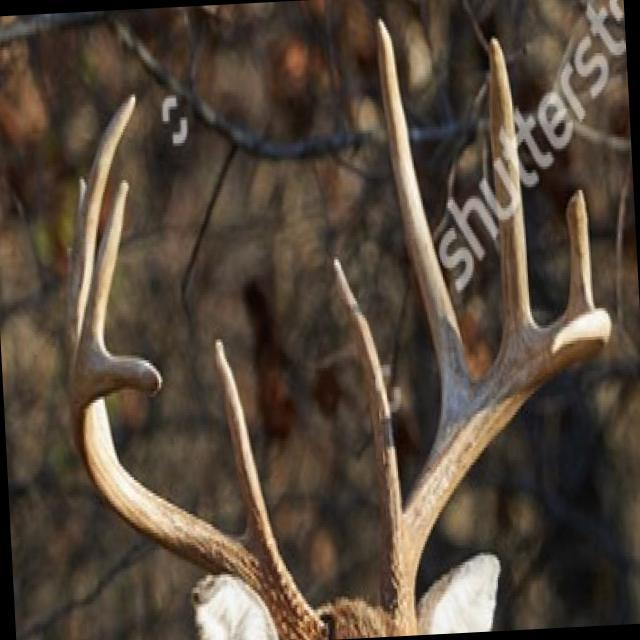L-F: (380, 309, 613, 636)
L-G1: (334, 257, 402, 538)
L-G2: (377, 14, 473, 413)
L-G3: (489, 35, 536, 343)
L-G4: (565, 189, 593, 312)
R-F: (69, 355, 329, 640)
R-G1: (215, 336, 277, 544)
R-G4: (76, 180, 130, 370)
